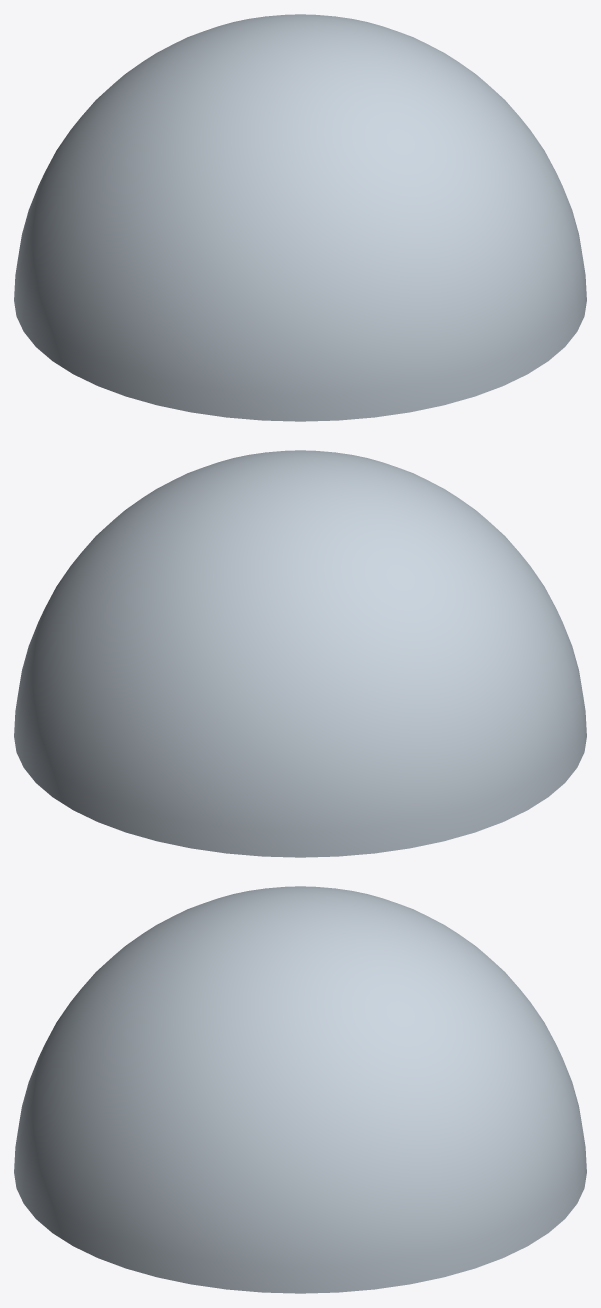
The model's file is shock_dome.glb.
3 renders of one model, top to bottom at view 1: azimuth 30°, elevation 25°; view 2: azimuth 150°, elevation 25°; view 3: azimuth 270°, elevation 25°, orthographic.
Visible parts, largest first — view 1: ShockDome; view 2: ShockDome; view 3: ShockDome.
Boxes of the visible parts, bbox=[...] form: ShockDome: bbox=[14, 14, 586, 421]; ShockDome: bbox=[14, 450, 586, 857]; ShockDome: bbox=[14, 886, 586, 1293].
Bounding box in the file's own units: 2 × 1 × 2.
